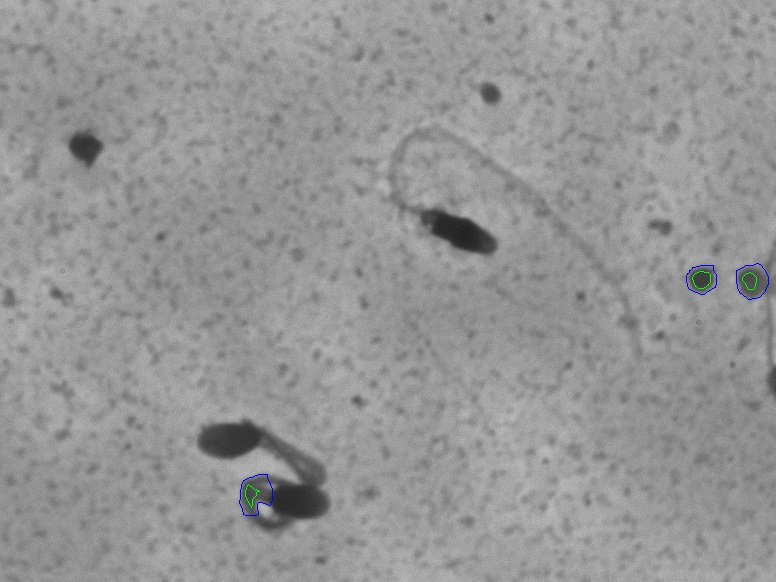Abnormal: (352, 100, 659, 385), (185, 392, 353, 553)
